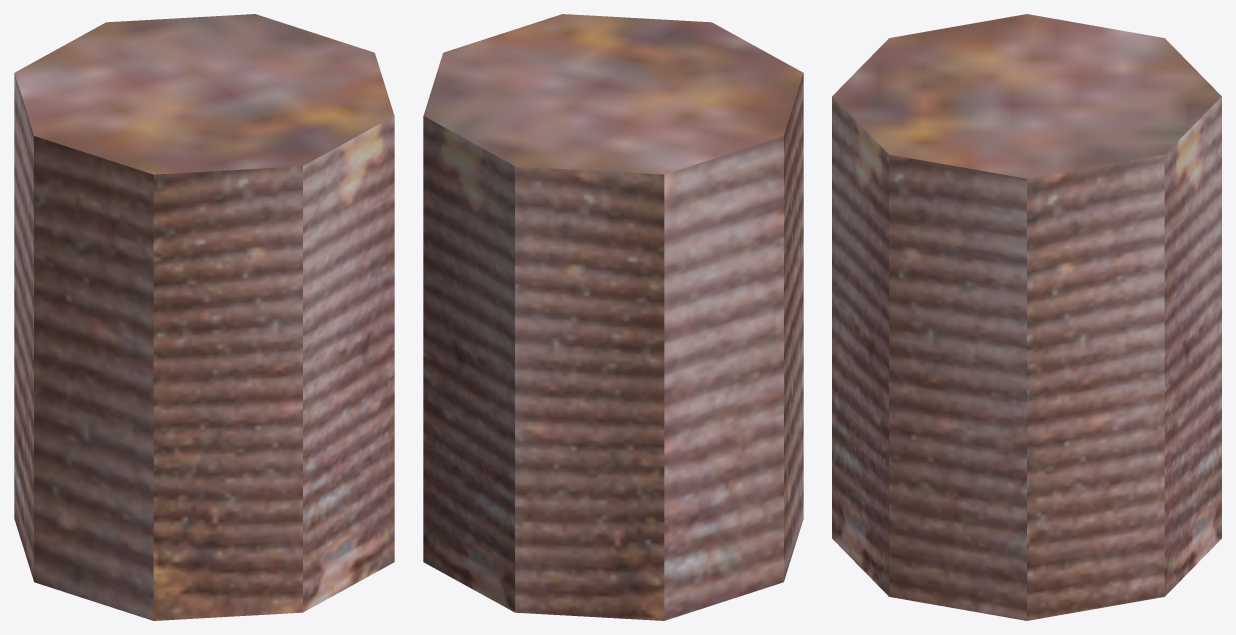
File: TDB_FoodCan.fbx
3 renders of one model, left to right at view 1: azimuth 30°, elevation 25°; view 2: azimuth 150°, elevation 25°; view 3: azimuth 270°, elevation 25°, orthographic.
Visible parts, largest first — view 1: Can; view 2: Can; view 3: Can.
Boxes of the visible parts, x1,y1,x2,y2 form: Can: [14, 14, 394, 620]; Can: [423, 14, 803, 620]; Can: [832, 14, 1221, 620].
Bounding box in the file's own units: 0.0819 × 0.0819 × 0.1025.
